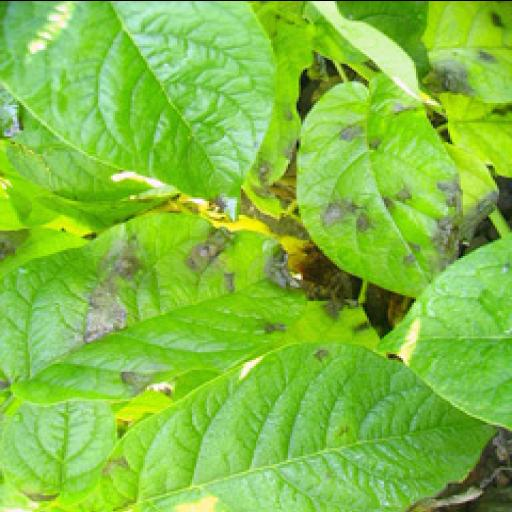disease_tomato: (2, 204, 307, 404), (292, 68, 470, 298)
